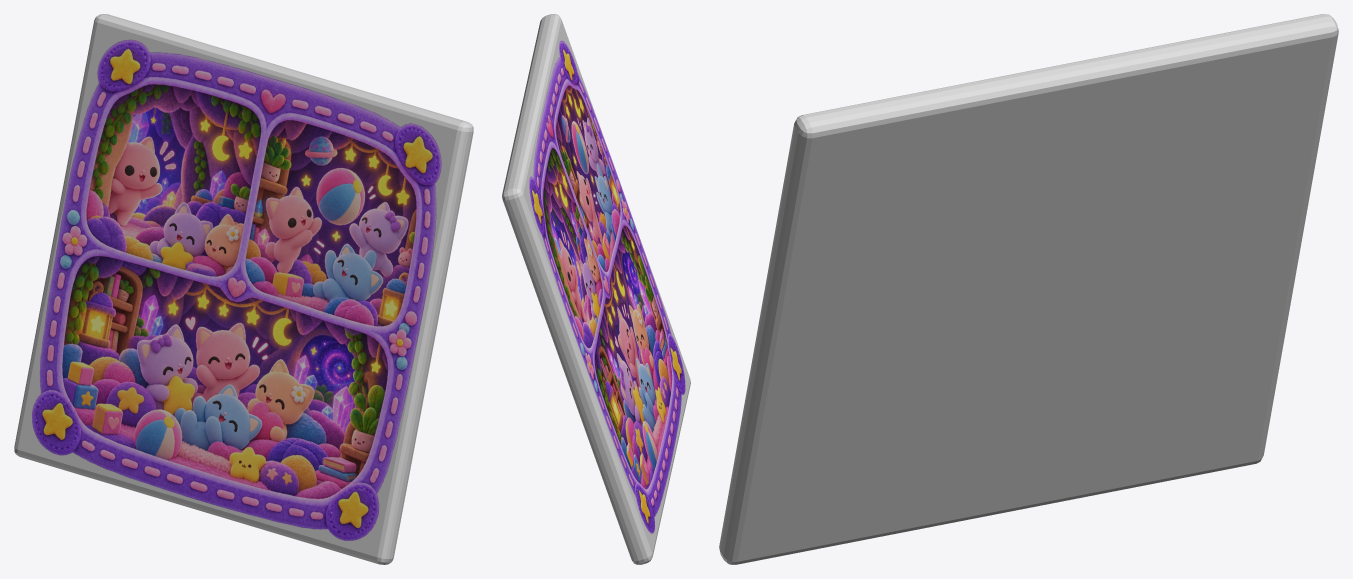
The model's file is memory_11.glb.
The picture shows the model from 3 angles, left to right: view 1: azimuth 30°, elevation 25°; view 2: azimuth 150°, elevation 25°; view 3: azimuth 270°, elevation 25°; orthographic projection. The views are drawn at different scales.
Parts seen in each view (by area): view 1: memory_11_page; view 2: memory_11_page; view 3: memory_11_page.
Part boxes in pixels (x1,y1,x2,y2): memory_11_page: (14,14,473,564); memory_11_page: (502,14,690,564); memory_11_page: (719,14,1338,564).
Size of what is drawn, in the model's own units: 0.5807 by 0.7641 by 0.8349.
Materials: 2 (1 with a texture image).
